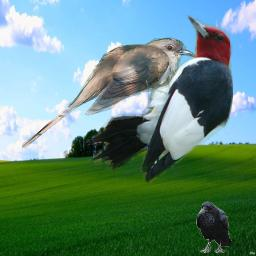Crow: (196, 201, 232, 253)
Cuckoo: (22, 37, 196, 149)
Woodpecker: (86, 15, 233, 183)
